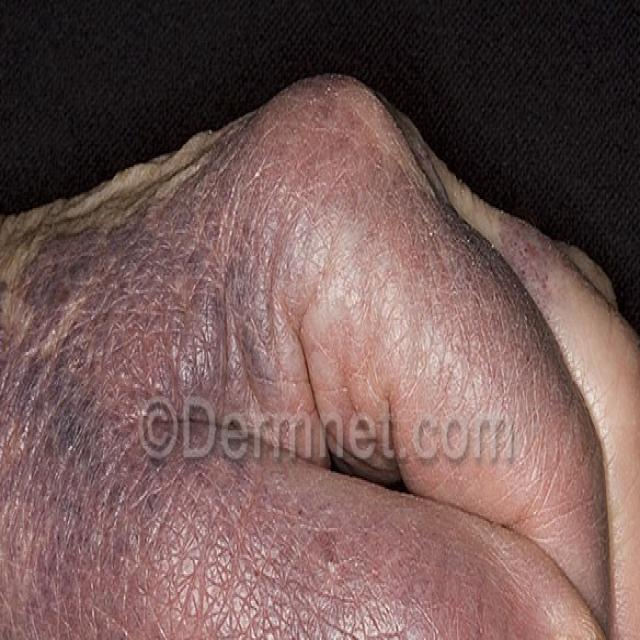Vascular Tumors: (0, 67, 528, 640)
